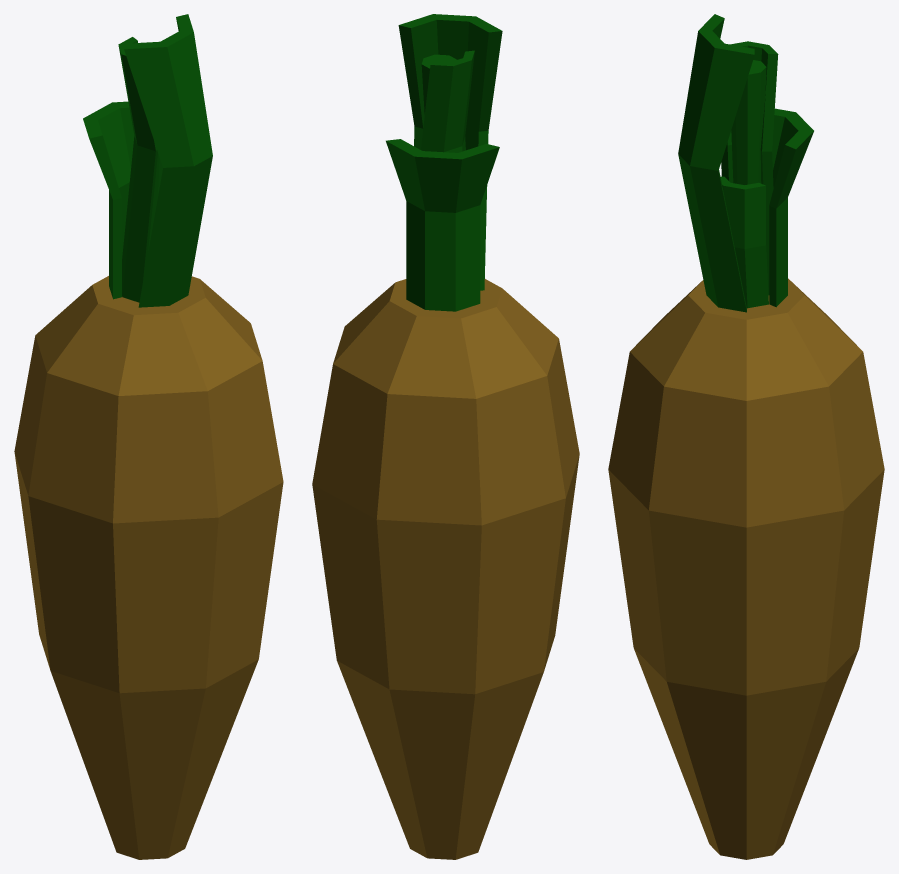
File: carrot.fbx
3 renders of one model, left to right at view 1: azimuth 30°, elevation 25°; view 2: azimuth 150°, elevation 25°; view 3: azimuth 270°, elevation 25°, orthographic.
Parts seen in each view (by area): view 1: carrot; view 2: carrot; view 3: carrot.
Boxes of the visible parts, x1=… form: carrot: x1=14, y1=14, x2=283, y2=859; carrot: x1=312, y1=14, x2=579, y2=859; carrot: x1=608, y1=14, x2=884, y2=859.
Size of the model in its own units: 0.7685 by 2.49 by 0.7685.
